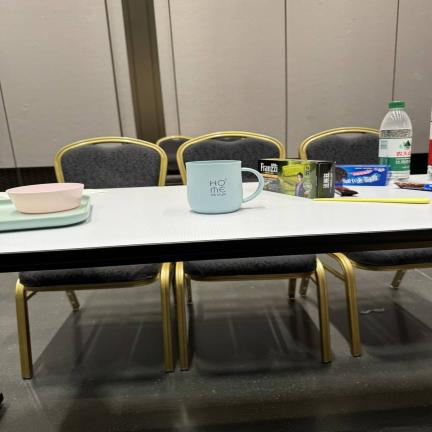cup: (186, 161, 263, 214)
